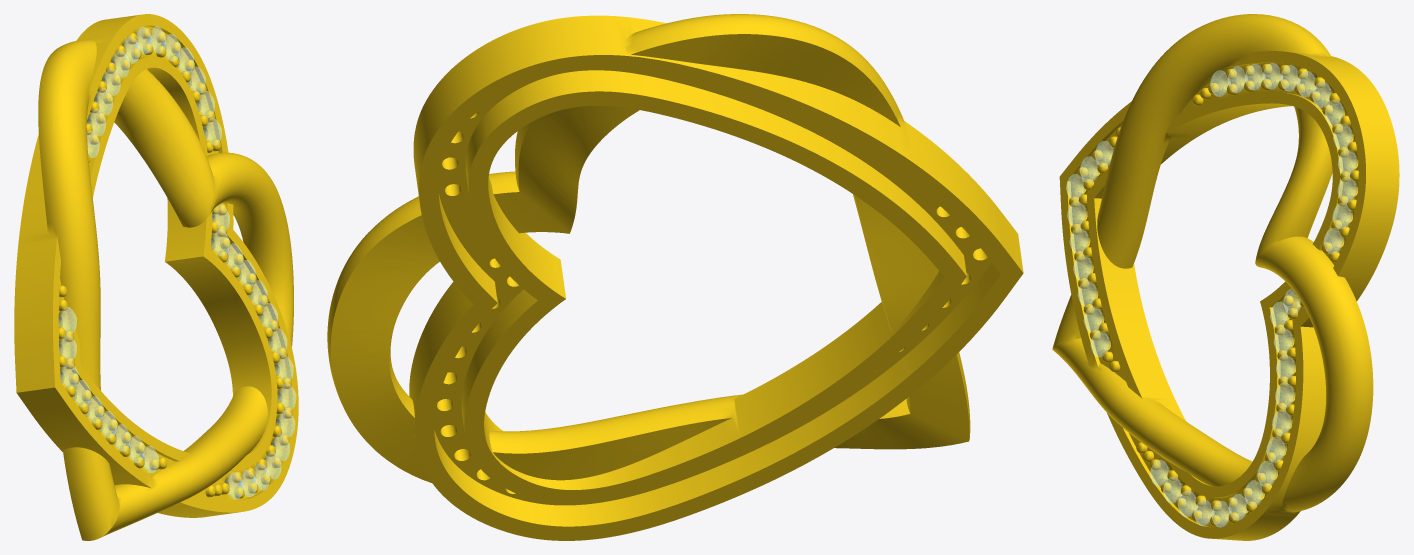
File: necklace.glb
3 renders of one model, left to right at view 1: azimuth 30°, elevation 25°; view 2: azimuth 150°, elevation 25°; view 3: azimuth 270°, elevation 25°, orthographic. The views are drawn at different scales.
Visible parts, largest first — view 1: object_merge1; view 2: object_merge1; view 3: object_merge1.
Part boxes in pixels (x1=…): object_merge1: x1=14, y1=14, x2=298, y2=540; object_merge1: x1=327, y1=14, x2=1023, y2=540; object_merge1: x1=1052, y1=14, x2=1399, y2=540.
Size of the model in its own units: 0.2524 by 0.2749 by 0.1931.
